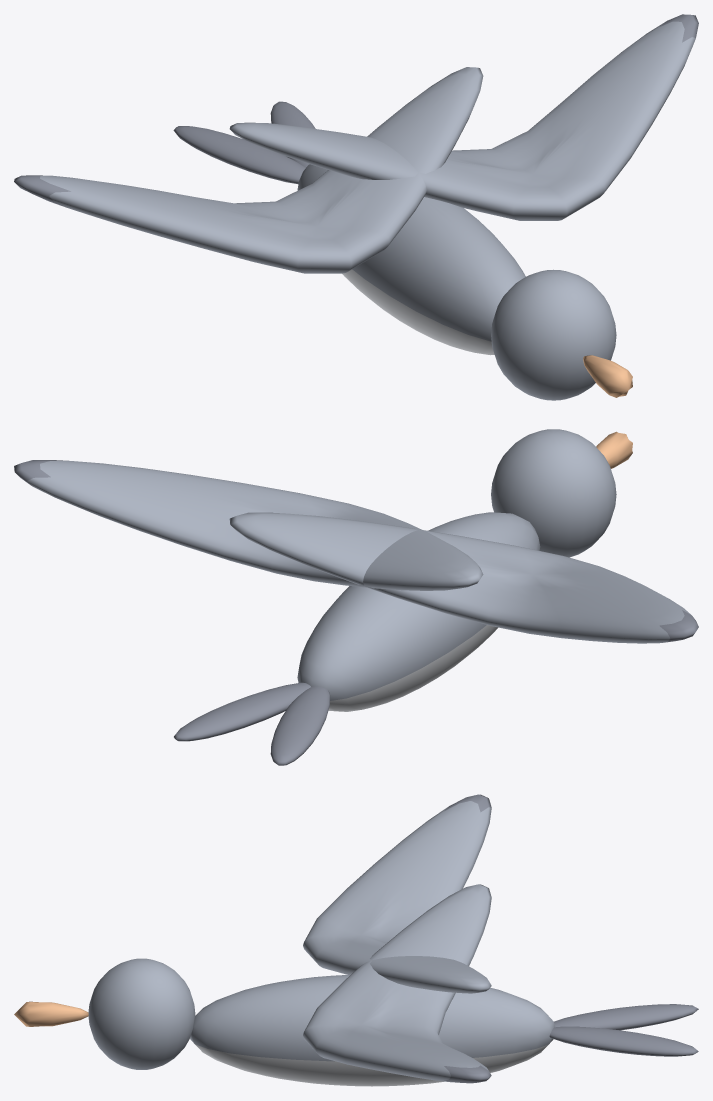
File: SkyBird.fbx
3 renders of one model, top to bottom at view 1: azimuth 30°, elevation 25°; view 2: azimuth 150°, elevation 25°; view 3: azimuth 270°, elevation 25°, orthographic. The views are drawn at different scales.
Parts seen in each view (by area): view 1: WingR, WingL, Body, Head, TailL, Beak, TailR; view 2: WingL, WingR, Body, Head, TailR, TailL, Beak; view 3: Body, WingR, WingL, Head, TailR, TailL, Beak.
Boxes of the visible parts, <box> form: WingR: <box>229,14,698,220</box>; WingL: <box>14,67,483,273</box>; Body: <box>297,164,525,355</box>; Head: <box>491,269,616,400</box>; TailL: <box>173,126,305,184</box>; Beak: <box>583,355,632,397</box>; TailR: <box>270,101,315,167</box>; WingL: <box>229,512,698,643</box>; WingR: <box>14,460,483,590</box>; Body: <box>297,512,540,711</box>; Head: <box>491,429,616,557</box>; TailR: <box>174,682,310,741</box>; TailL: <box>270,686,330,765</box>; Beak: <box>596,431,632,468</box>; Body: <box>190,974,555,1086</box>; WingR: <box>303,884,491,1083</box>; WingL: <box>303,794,491,993</box>; Head: <box>88,958,195,1069</box>; TailR: <box>549,1026,698,1056</box>; TailL: <box>554,1004,698,1030</box>; Beak: <box>14,1001,88,1026</box>.
Size of the model in its own units: 75.87 by 18.41 by 77.39.
